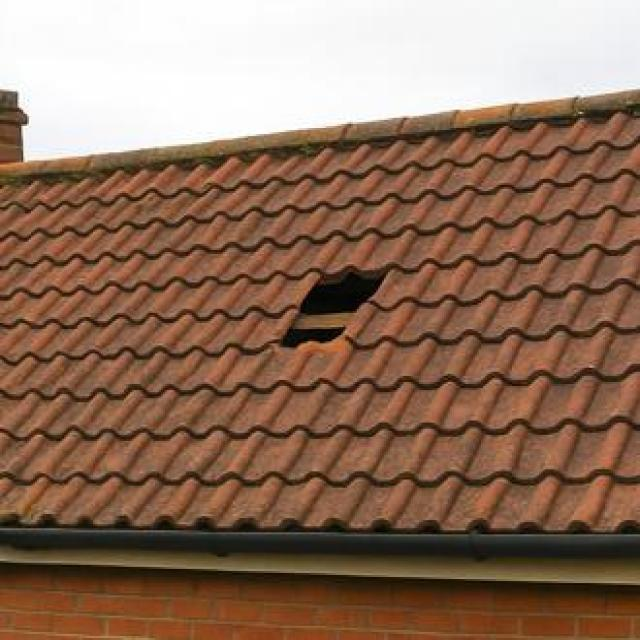trou: (269, 264, 396, 352)
